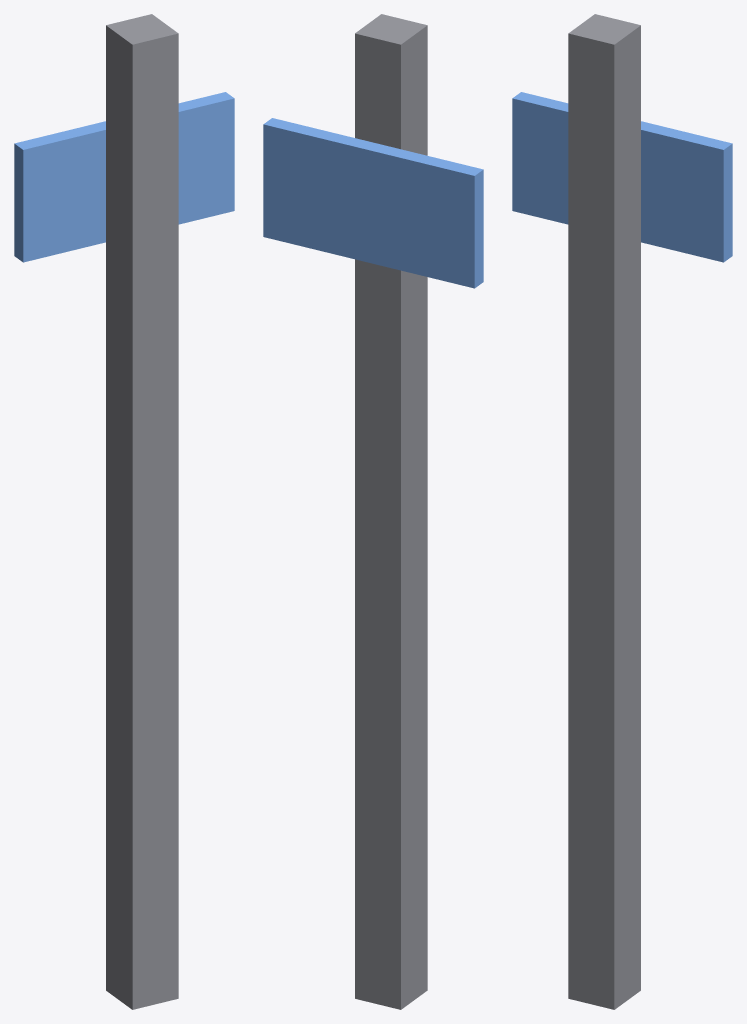
File: street_pole_01_lo1.glb
3 views of the same model, side by side, from view 1: azimuth 30°, elevation 25°; view 2: azimuth 150°, elevation 25°; view 3: azimuth 330°, elevation 25° (orthographic).
Parts seen in each view (by area): view 1: street_pole_01_lo1; view 2: street_pole_01_lo1; view 3: street_pole_01_lo1.
Part boxes in pixels (box(x1,y1,x2,y2)): street_pole_01_lo1: box(14, 14, 234, 1009); street_pole_01_lo1: box(263, 14, 483, 1009); street_pole_01_lo1: box(512, 14, 732, 1009).
Size of the model in its own units: 0.55 by 2.4 by 0.16.
